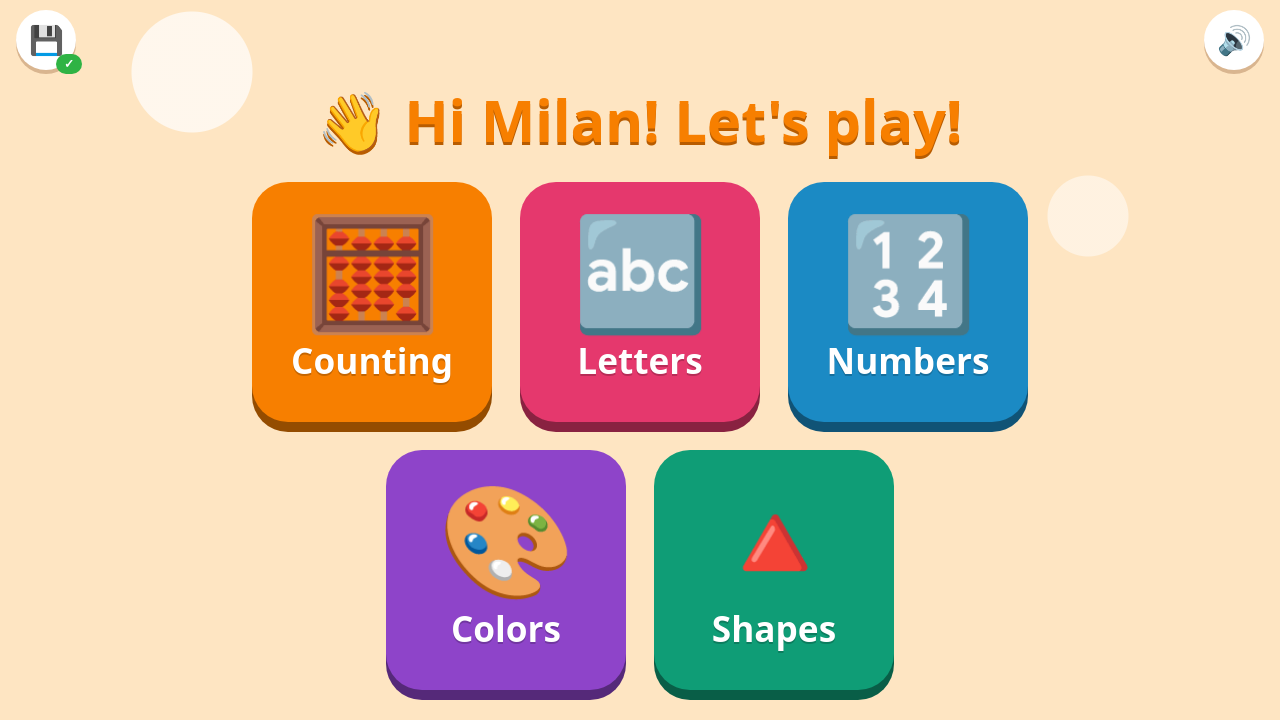
Test: Play offline › celebrates when everything is saved
Click the button named "Play offline" at (46, 40), box [16, 10, 76, 70]
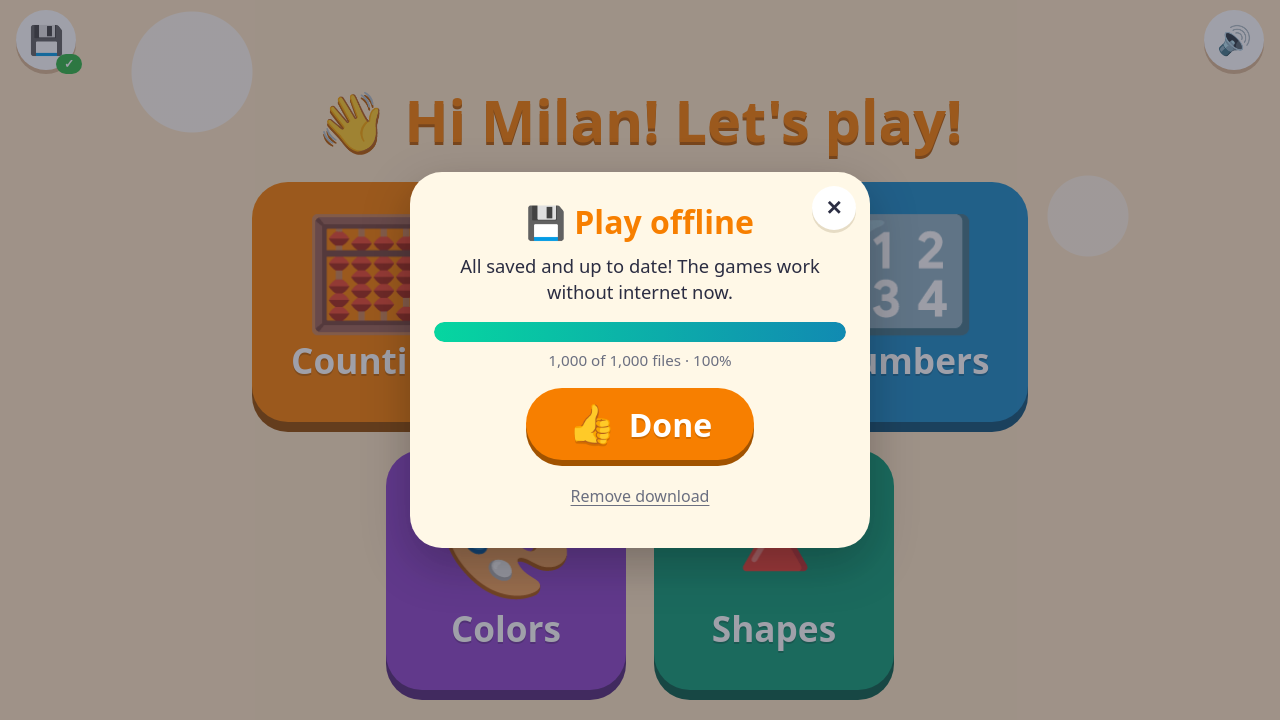
Result: the dialog "Play offline" shows "All saved and up to date!" at [460, 253, 820, 304]
Click the button "👍 Done" at (640, 424), box [526, 388, 754, 460]
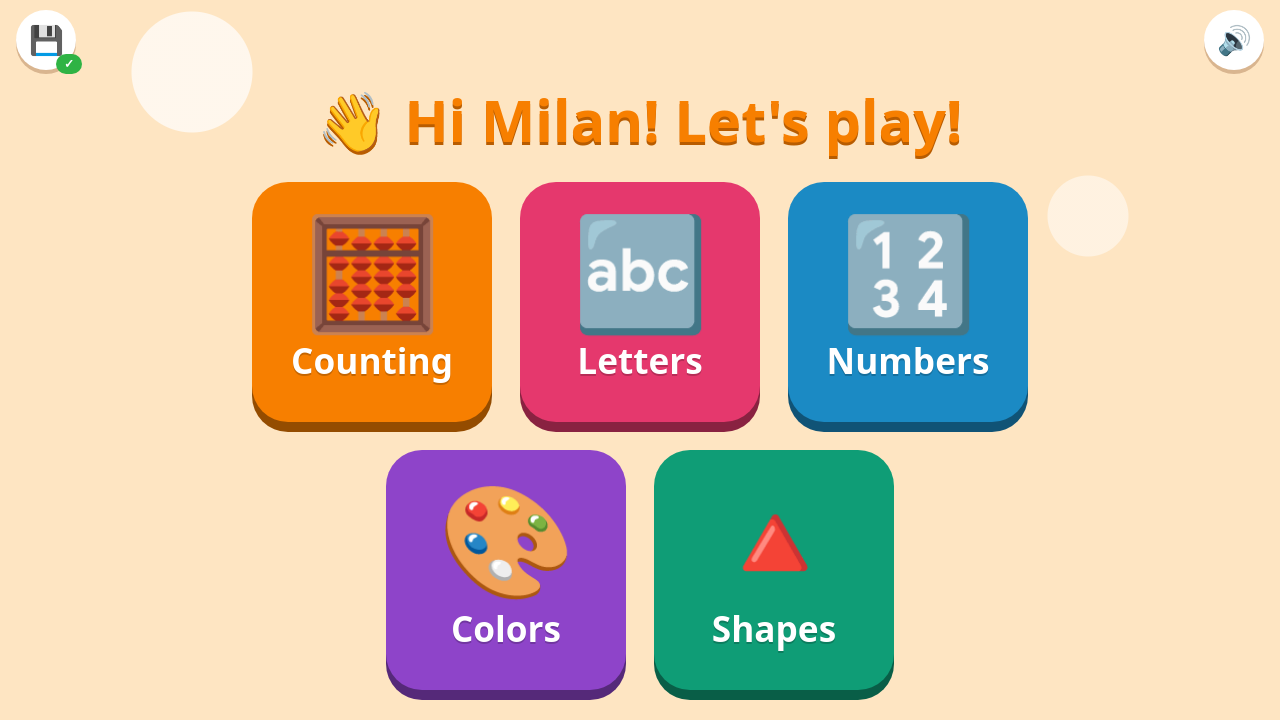
Result: the dialog is gone
